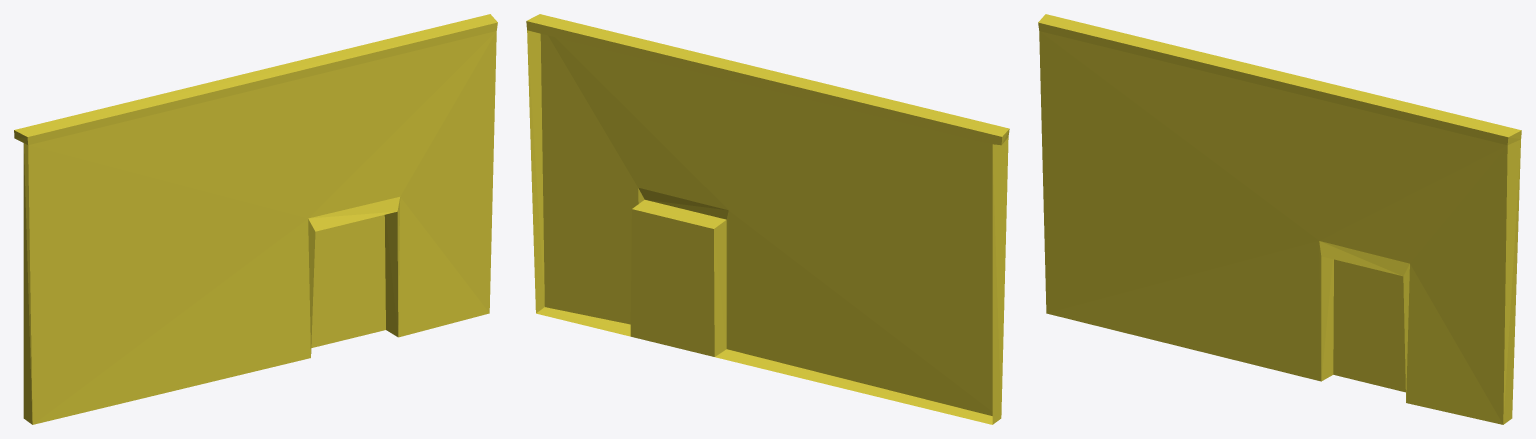
Rendered from ParedeLateral.Low.fbx.
The picture shows the model from 3 angles, left to right: view 1: azimuth 30°, elevation 25°; view 2: azimuth 150°, elevation 25°; view 3: azimuth 330°, elevation 25°; orthographic projection.
Visible parts, largest first — view 1: ParedeLateral.Low; view 2: ParedeLateral.Low; view 3: ParedeLateral.Low.
Part boxes in pixels (x1,y1,x2,y2): ParedeLateral.Low: (14, 14, 497, 424); ParedeLateral.Low: (526, 14, 1009, 424); ParedeLateral.Low: (1038, 14, 1521, 424).
Bounding box in the file's own units: 710 × 414 × 33.09.
